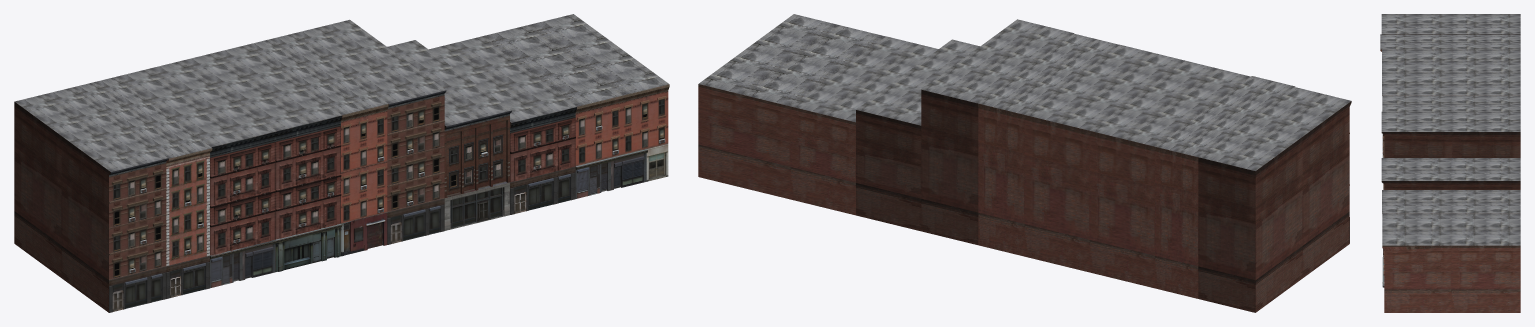
File: Building8.glb
The picture shows the model from 3 angles, left to right: view 1: azimuth 30°, elevation 25°; view 2: azimuth 150°, elevation 25°; view 3: azimuth 270°, elevation 25°; orthographic projection. The views are drawn at different scales.
Parts seen in each view (by area): view 1: Brownstone_FlatFacadeComplex_1; view 2: Brownstone_FlatFacadeComplex_1; view 3: Brownstone_FlatFacadeComplex_1.
Part boxes in pixels (left/top/right/bottom): Brownstone_FlatFacadeComplex_1: left=14, top=14, right=669, bottom=312; Brownstone_FlatFacadeComplex_1: left=698, top=14, right=1351, bottom=312; Brownstone_FlatFacadeComplex_1: left=1380, top=14, right=1520, bottom=312.
Size of the model in its own units: 68.28 by 16.59 by 20.56.
3 materials, 3 textured.
